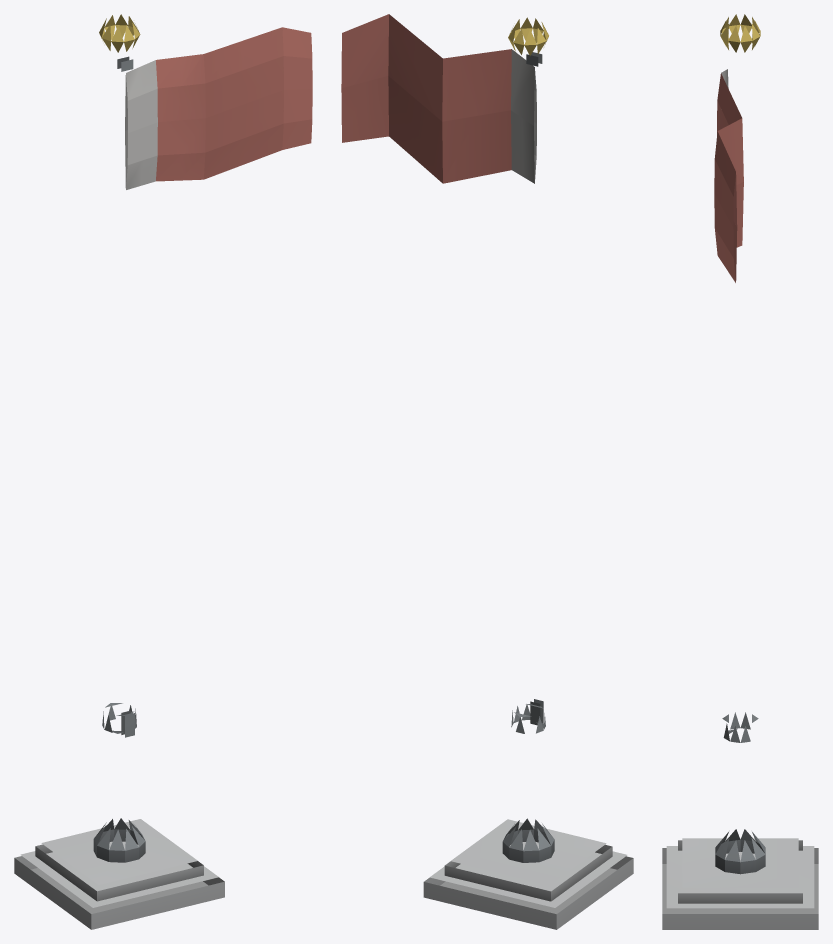
Rendered from redflag.lod.glb.
3 renders of one model, left to right at view 1: azimuth 30°, elevation 25°; view 2: azimuth 150°, elevation 25°; view 3: azimuth 270°, elevation 25°, orthographic.
Visible parts, largest first — view 1: redflag; view 2: redflag; view 3: redflag.
Boxes of the visible parts, x1=… form: redflag: x1=14, y1=14, x2=312, y2=929; redflag: x1=341, y1=14, x2=633, y2=929; redflag: x1=662, y1=14, x2=818, y2=929.
Bounding box in the file's own units: 2.3 × 7.44 × 1.2.
